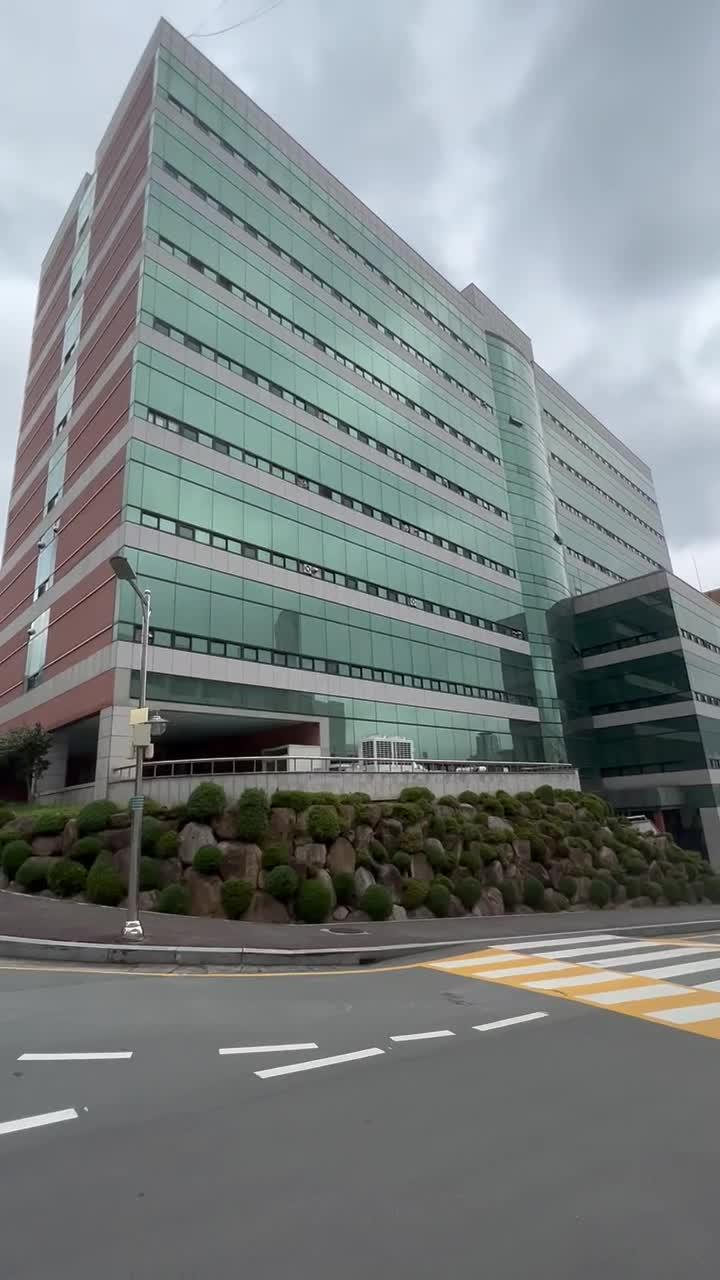building: (0, 76, 598, 780)
